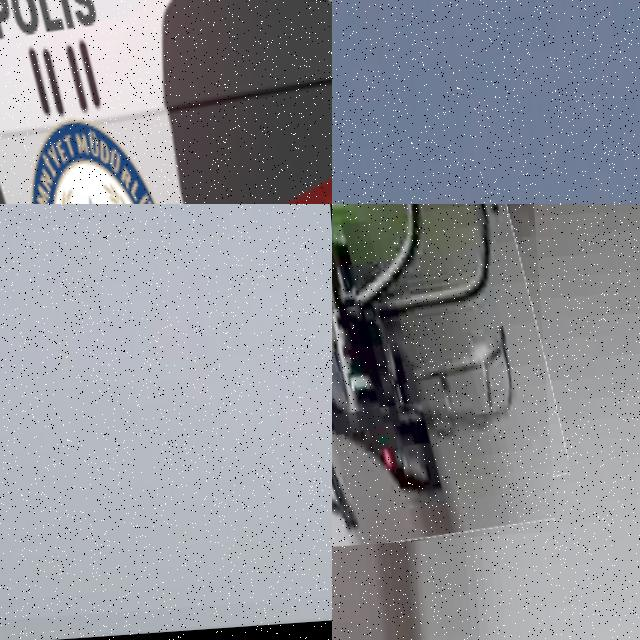drone: (332, 204, 556, 566), (0, 0, 332, 204)
